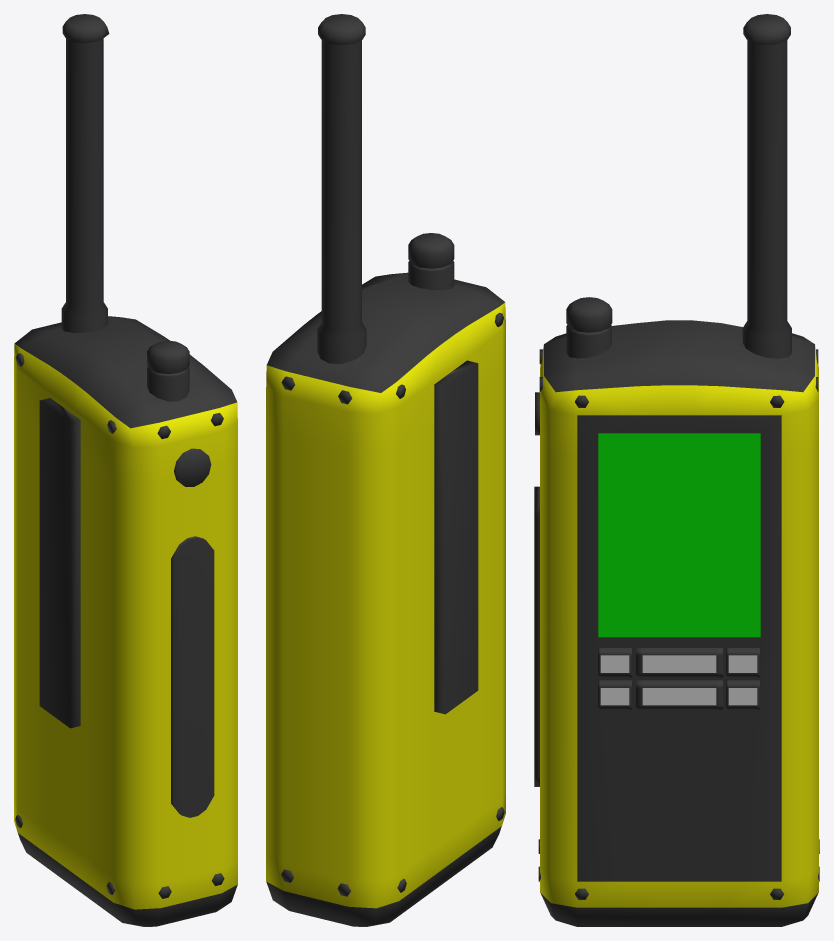
The model's file is Proto_WalkieTalkie.fbx.
3 views of the same model, side by side, from view 1: azimuth 30°, elevation 25°; view 2: azimuth 150°, elevation 25°; view 3: azimuth 270°, elevation 25° (orthographic). The views are drawn at different scales.
Visible parts, largest first — view 1: WalkieTalkie; view 2: WalkieTalkie; view 3: WalkieTalkie.
Part boxes in pixels (x1,y1,x2,y2): WalkieTalkie: [14, 14, 237, 926]; WalkieTalkie: [266, 14, 505, 926]; WalkieTalkie: [534, 14, 819, 926].
Bounding box in the file's own units: 9.27 × 53.94 × 15.7.
